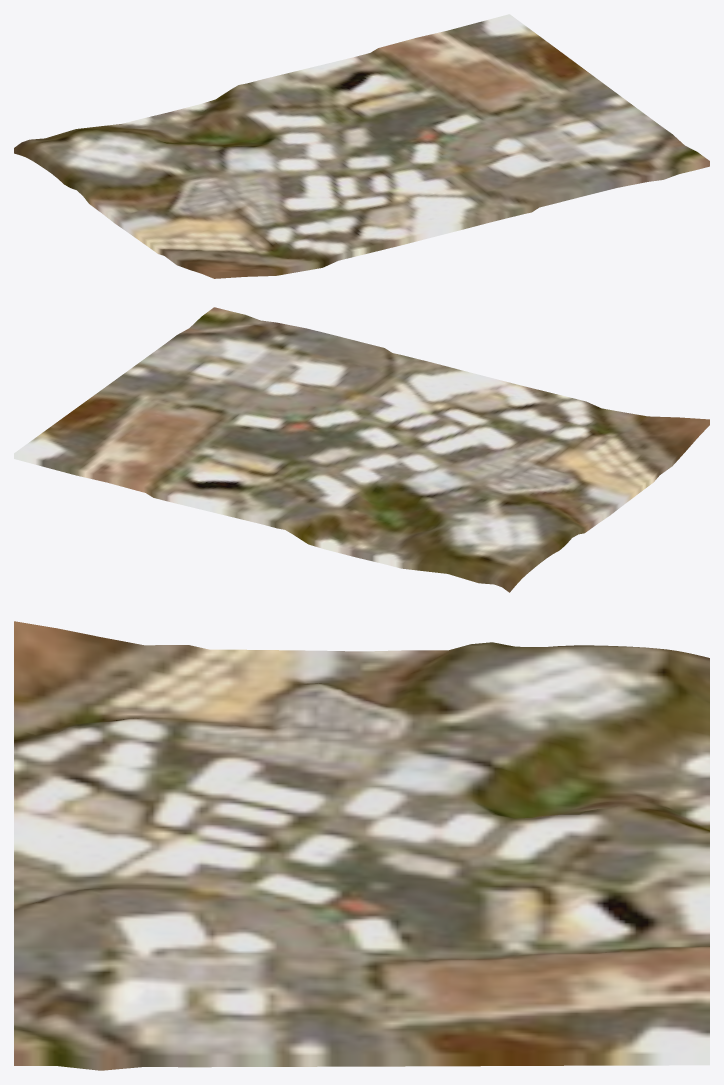
File: terrain_r4_c6_lod2.glb
3 views of the same model, one above another, from view 1: azimuth 30°, elevation 25°; view 2: azimuth 150°, elevation 25°; view 3: azimuth 270°, elevation 25° (orthographic). The views are drawn at different scales.
Visible parts, largest first — view 1: terrain_r4_c6_lod2; view 2: terrain_r4_c6_lod2; view 3: terrain_r4_c6_lod2.
Part boxes in pixels (x1,y1,x2,y2): terrain_r4_c6_lod2: (14,14,709,278); terrain_r4_c6_lod2: (14,307,709,592); terrain_r4_c6_lod2: (14,621,709,1070).
Size of the model in its own units: 1125 by 62.9 by 787.
Materials: 1 (1 with a texture image).
